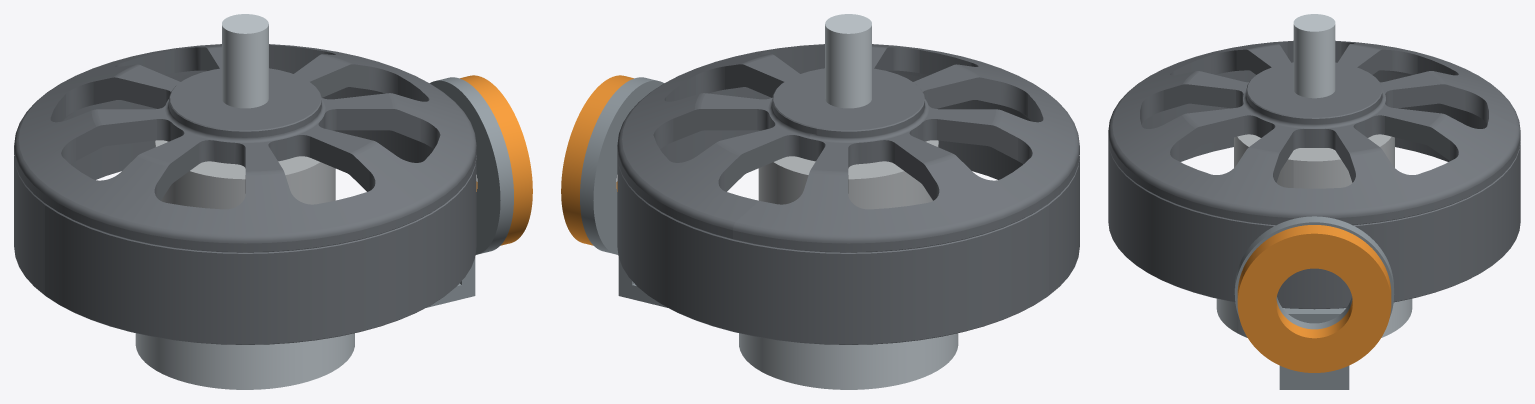
The picture shows the model from 3 angles, left to right: view 1: azimuth 30°, elevation 25°; view 2: azimuth 150°, elevation 25°; view 3: azimuth 270°, elevation 25°; orthographic projection. The views are drawn at different scales.
Visible parts, largest first — view 1: M3/0002_PX4_5010_Rudis_BellHead.001, M3/0001_PX4_5010_Rudis_Bellside, M3/0003_motor_mount_adapter, M3/0010_isolator_backing_ring, M3/0000_PX4_5010_Rudis_Stator, M3/0004_exposed_motor_spindle, M3/0009_isolator_ring, M3/0011_isolator_lower_bracket; view 2: M3/0002_PX4_5010_Rudis_BellHead.001, M3/0001_PX4_5010_Rudis_Bellside, M3/0003_motor_mount_adapter, M3/0010_isolator_backing_ring, M3/0000_PX4_5010_Rudis_Stator, M3/0004_exposed_motor_spindle, M3/0009_isolator_ring, M3/0011_isolator_lower_bracket; view 3: M3/0002_PX4_5010_Rudis_BellHead.001, M3/0001_PX4_5010_Rudis_Bellside, M3/0009_isolator_ring, M3/0004_exposed_motor_spindle, M3/0000_PX4_5010_Rudis_Stator, M3/0010_isolator_backing_ring, M3/0003_motor_mount_adapter, M3/0012_isolator_upright_bracket, M3/0011_isolator_lower_bracket.
Part boxes in pixels (x1,y1,x2,y2): M3/0002_PX4_5010_Rudis_BellHead.001: (14,44,476,252); M3/0001_PX4_5010_Rudis_Bellside: (14,73,476,344); M3/0003_motor_mount_adapter: (135,333,354,389); M3/0010_isolator_backing_ring: (430,77,513,254); M3/0000_PX4_5010_Rudis_Stator: (155,140,335,209); M3/0004_exposed_motor_spindle: (222,14,268,108); M3/0009_isolator_ring: (460,75,532,245); M3/0011_isolator_lower_bracket: (426,282,475,307); M3/0002_PX4_5010_Rudis_BellHead.001: (617,44,1079,252); M3/0001_PX4_5010_Rudis_Bellside: (617,73,1079,344); M3/0003_motor_mount_adapter: (739,333,958,389); M3/0010_isolator_backing_ring: (580,77,663,254); M3/0000_PX4_5010_Rudis_Stator: (758,140,938,209); M3/0004_exposed_motor_spindle: (825,14,871,108); M3/0009_isolator_ring: (561,75,633,245); M3/0011_isolator_lower_bracket: (618,282,667,307); M3/0002_PX4_5010_Rudis_BellHead.001: (1108,40,1520,225); M3/0001_PX4_5010_Rudis_Bellside: (1108,70,1520,309); M3/0009_isolator_ring: (1237,225,1391,372); M3/0004_exposed_motor_spindle: (1293,14,1335,98); M3/0000_PX4_5010_Rudis_Stator: (1234,134,1394,188); M3/0010_isolator_backing_ring: (1234,216,1394,329); M3/0003_motor_mount_adapter: (1216,298,1412,337); M3/0012_isolator_upright_bracket: (1279,308,1349,377); M3/0011_isolator_lower_bracket: (1279,377,1349,389).
Size of the model in its own units: 0.0655 by 0.045 by 0.059.
